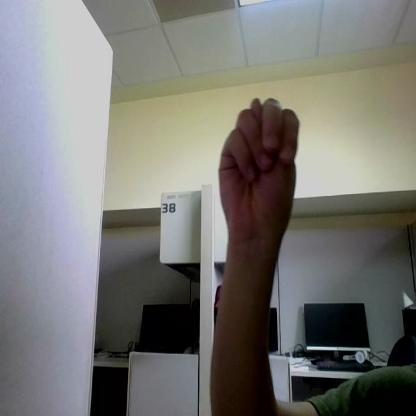N: (219, 98, 298, 241)
